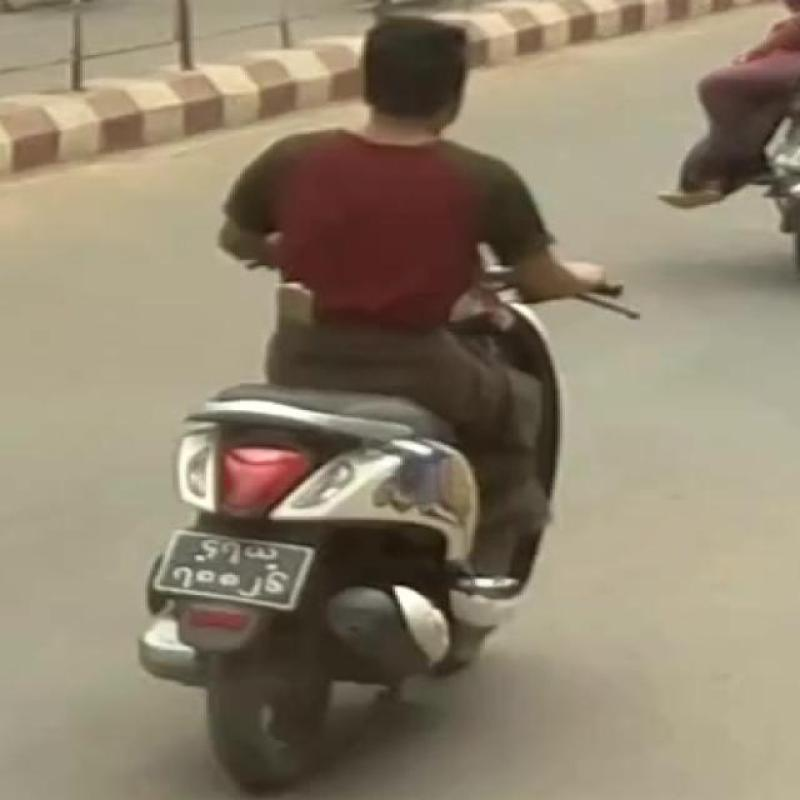nohelmet: (321, 0, 517, 145)
